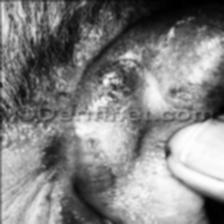Non-Cancerous Skin Condition: (22, 78, 122, 196)
